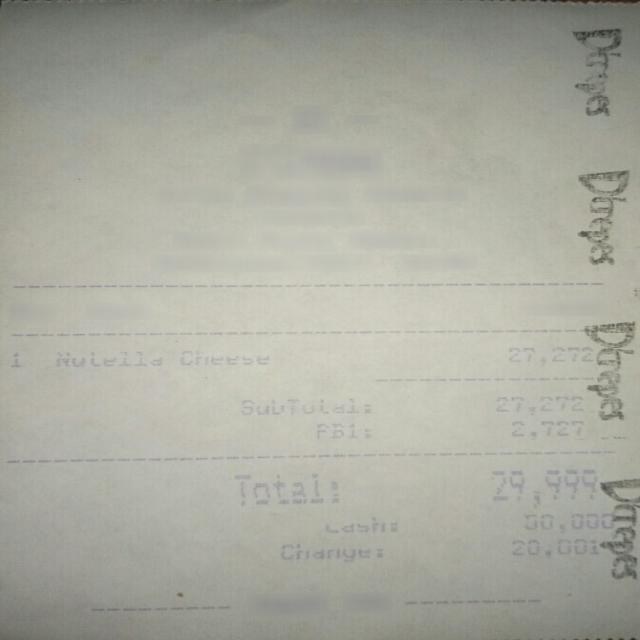text: (485, 467, 596, 507), (232, 472, 338, 506), (240, 397, 370, 415), (279, 543, 383, 563), (524, 511, 615, 533), (494, 396, 587, 417), (507, 345, 600, 365), (507, 538, 600, 558), (56, 349, 162, 366), (178, 350, 270, 365), (323, 515, 395, 533), (509, 420, 569, 437), (313, 422, 371, 438), (10, 351, 20, 368)
